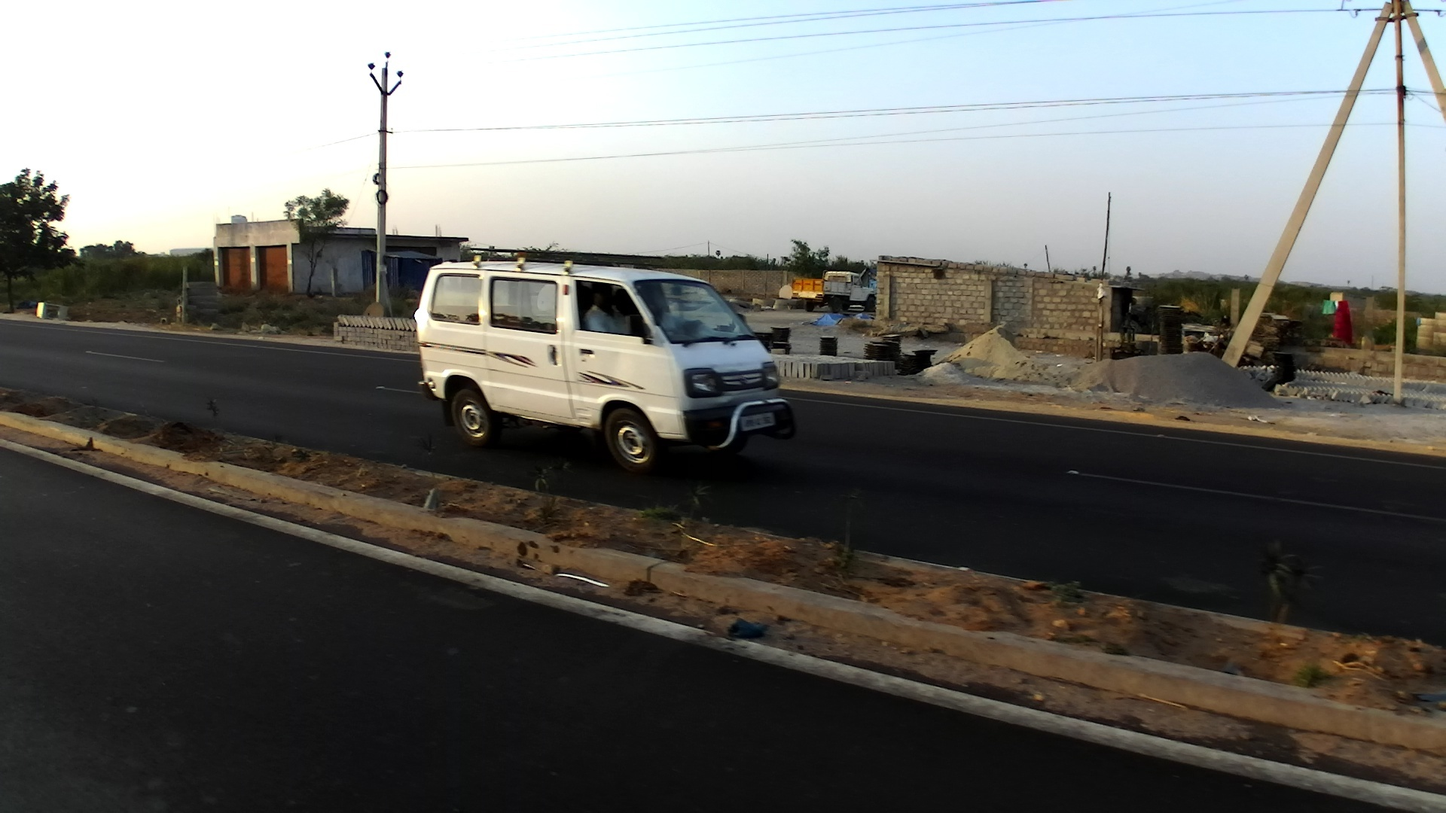car: (412, 240, 796, 475)
truck: (788, 267, 876, 313)
